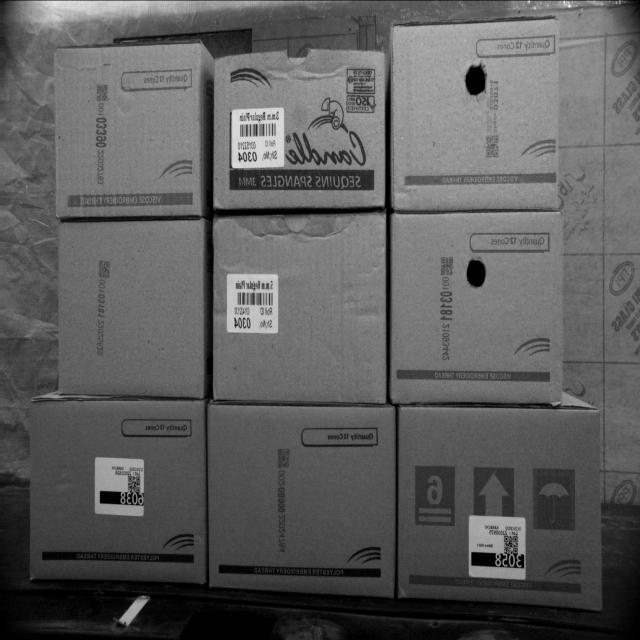cardboxes: (397, 406, 602, 609), (209, 406, 393, 597), (211, 212, 390, 401), (389, 214, 562, 401), (388, 14, 554, 206), (31, 401, 206, 583), (210, 50, 389, 214), (54, 42, 206, 220), (55, 214, 204, 393)
